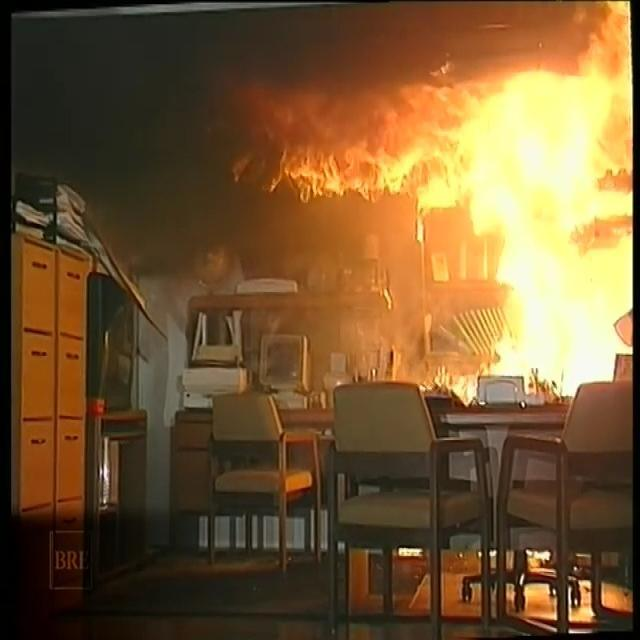Fire: (262, 19, 626, 378)
